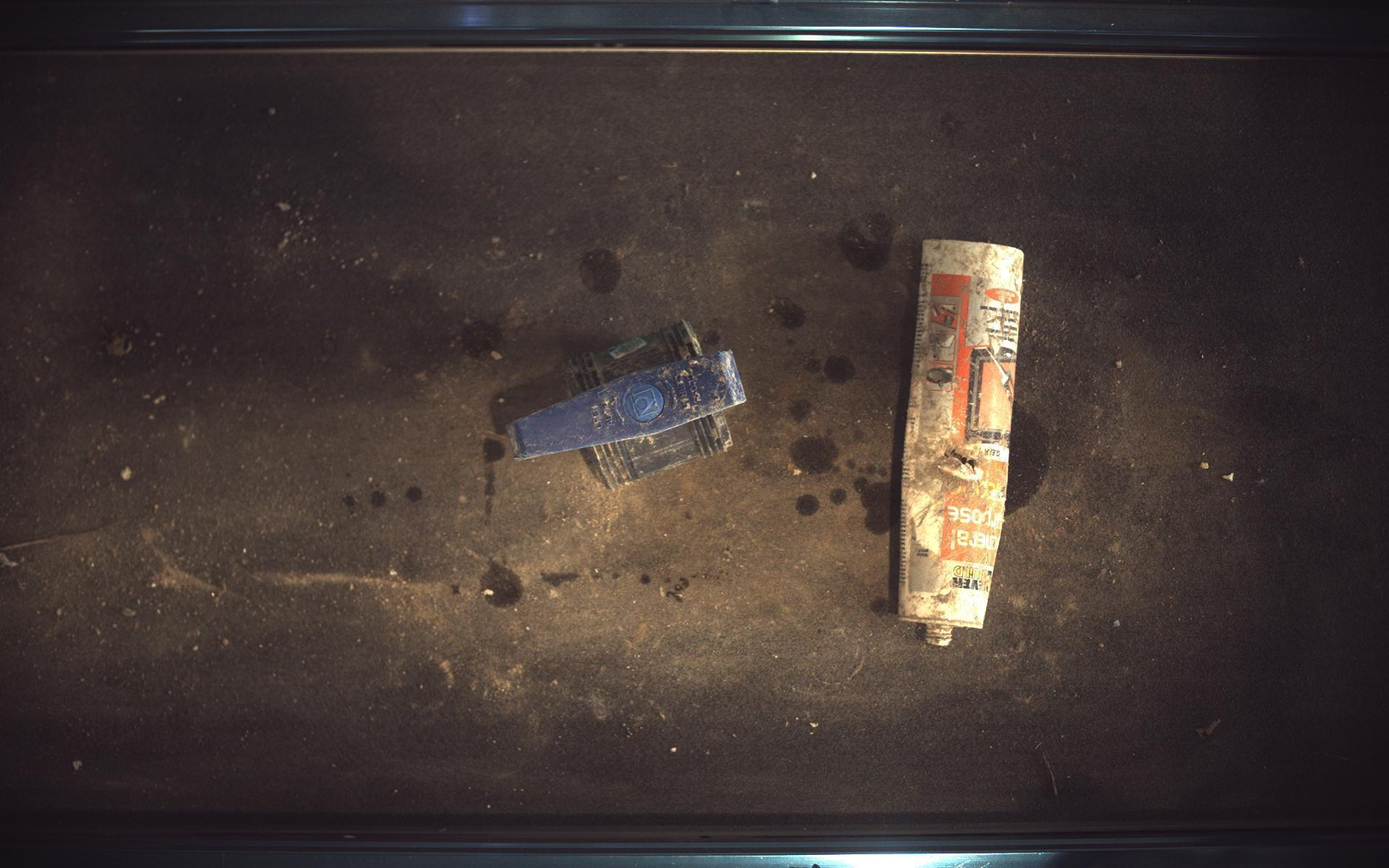plastic: (901, 239, 1027, 646), (507, 322, 747, 488)
